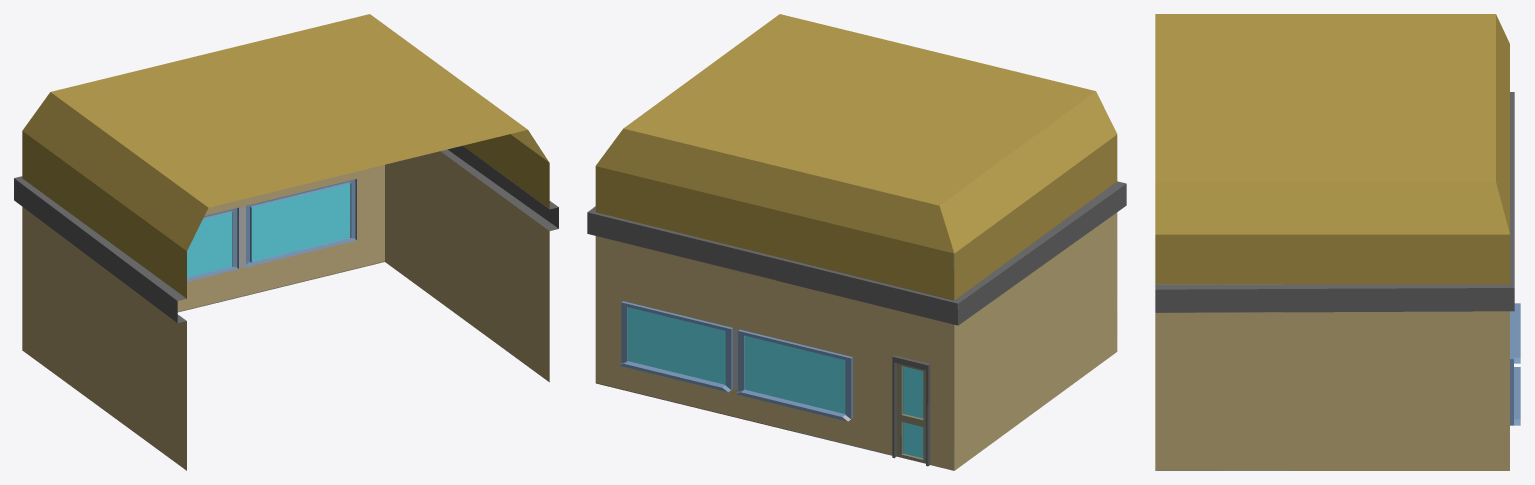
The model's file is building6.FBX.
The picture shows the model from 3 angles, left to right: view 1: azimuth 30°, elevation 25°; view 2: azimuth 150°, elevation 25°; view 3: azimuth 270°, elevation 25°; orthographic projection. The views are drawn at different scales.
Visible parts, largest first — view 1: Box008; view 2: Box008; view 3: Box008.
Part boxes in pixels (x1=…): Box008: x1=14, y1=14, x2=558, y2=470; Box008: x1=587, y1=14, x2=1126, y2=470; Box008: x1=1155, y1=14, x2=1520, y2=470.
Size of the model in its own units: 1090 by 705 by 840.
